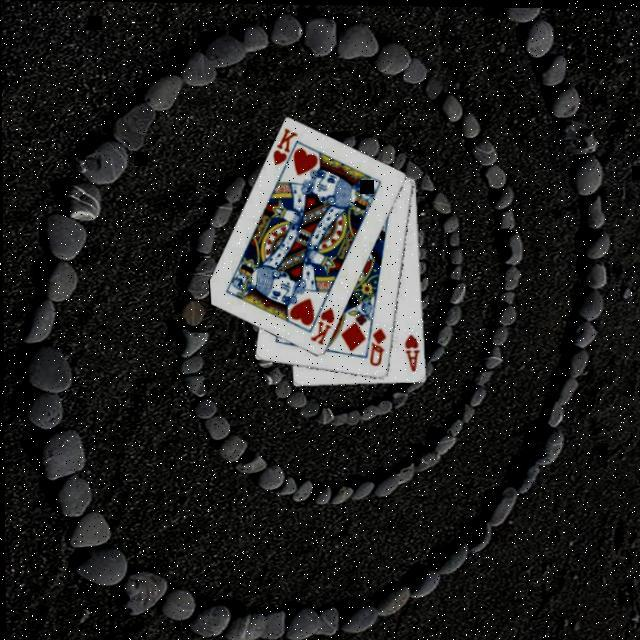AH: (402, 330, 422, 372)
KH: (307, 303, 337, 347), (270, 124, 300, 166)
QD: (367, 323, 389, 367)
